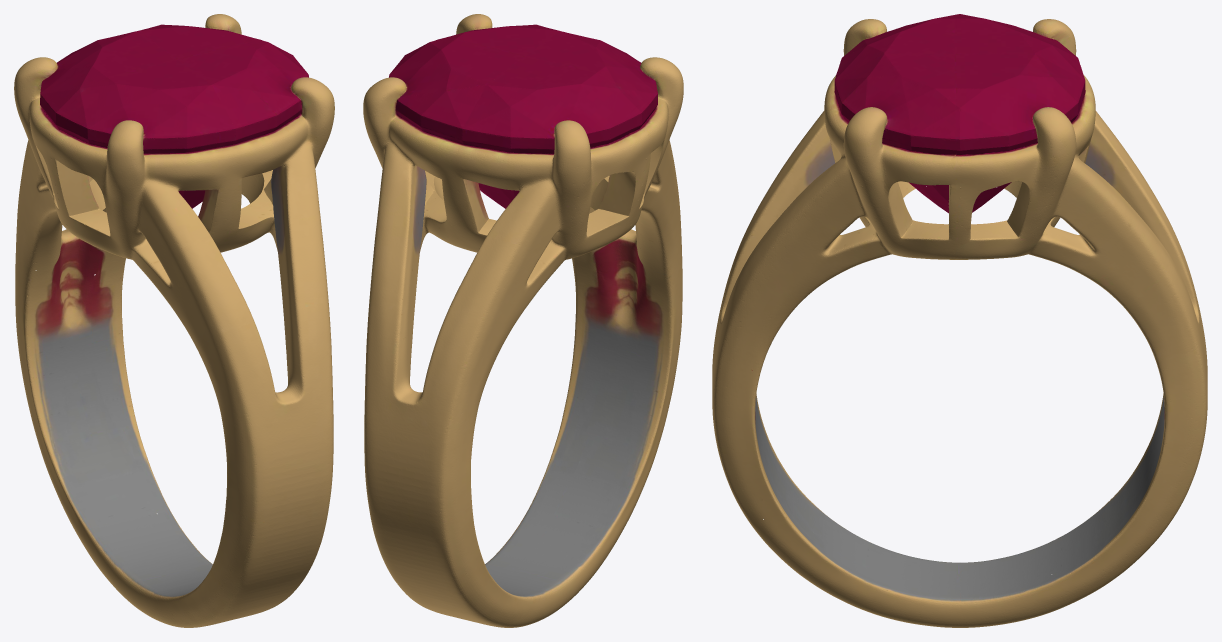
Rendered from ring.glb.
3 renders of one model, left to right at view 1: azimuth 30°, elevation 25°; view 2: azimuth 150°, elevation 25°; view 3: azimuth 270°, elevation 25°, orthographic. The views are drawn at different scales.
Visible parts, largest first — view 1: tripo_node_bde4a30a-b669-4943-b48a-9dee280920a4; view 2: tripo_node_bde4a30a-b669-4943-b48a-9dee280920a4; view 3: tripo_node_bde4a30a-b669-4943-b48a-9dee280920a4.
Part boxes in pixels (x1=…): tripo_node_bde4a30a-b669-4943-b48a-9dee280920a4: x1=14, y1=14, x2=334, y2=627; tripo_node_bde4a30a-b669-4943-b48a-9dee280920a4: x1=363, y1=14, x2=683, y2=627; tripo_node_bde4a30a-b669-4943-b48a-9dee280920a4: x1=712, y1=14, x2=1207, y2=627.
Size of the model in its own units: 0.4831 by 1 by 0.8021.
Materials: 1 (1 with a texture image).
